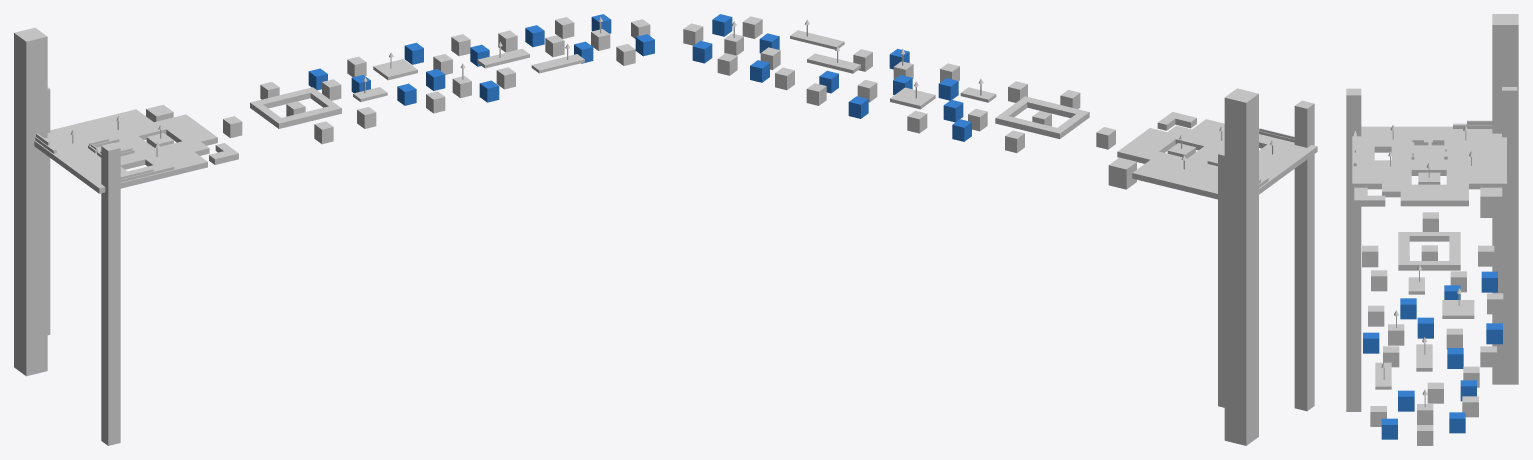
File: LD_Lance_3.0_3.fbx
The picture shows the model from 3 angles, left to right: view 1: azimuth 30°, elevation 25°; view 2: azimuth 150°, elevation 25°; view 3: azimuth 270°, elevation 25°; orthographic projection. The views are drawn at different scales.
Parts seen in each view (by area): view 1: Cube.860, Cube.844, Cube.859, Cube.841, Cube.908; view 2: Cube.860, Cube.844, Cube.859, Cube.841, Cube.908, Cube.855, Cube.877; view 3: Cube.844, Cube.859, Cube.860, Cube.908, Cube.841, Cube.855, Cube.877, Cube.856, Cube.839, Cube.875, Cube.842, Cube.887 (+30 smaller).
Boxes of the visible parts, x1,y1,x2,y2 form: Cube.860: (14,27,47,376); Cube.844: (34,109,217,193); Cube.859: (101,143,120,445); Cube.841: (250,87,341,128); Cube.908: (47,87,50,335); Cube.860: (1224,88,1258,445); Cube.844: (1117,119,1317,199); Cube.859: (1294,100,1314,411); Cube.841: (995,96,1089,138); Cube.908: (1218,149,1224,407); Cube.855: (1108,157,1136,189); Cube.877: (890,87,935,109); Cube.844: (1352,126,1506,206); Cube.859: (1346,88,1361,411); Cube.860: (1492,14,1518,384); Cube.908: (1502,87,1517,354); Cube.841: (1398,232,1460,270); Cube.855: (1480,187,1502,217); Cube.877: (1442,300,1474,318); Cube.856: (1354,187,1385,206); Cube.839: (1416,344,1432,371); Cube.875: (1375,362,1391,389); Cube.842: (1362,245,1378,267); Cube.887: (1480,346,1496,367).
Bounding box in the file's own units: 45420 × 26373 × 10732.
